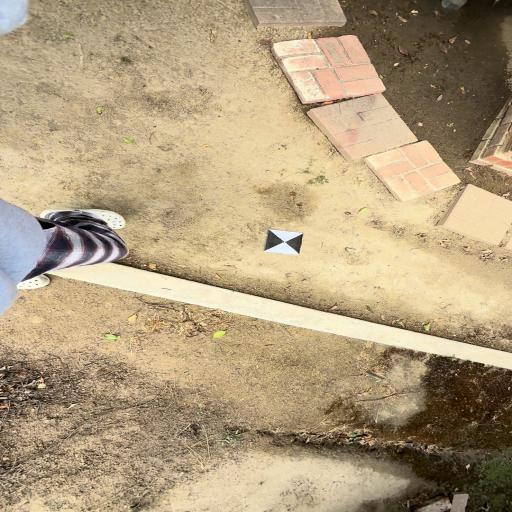target: (263, 229, 304, 254)
